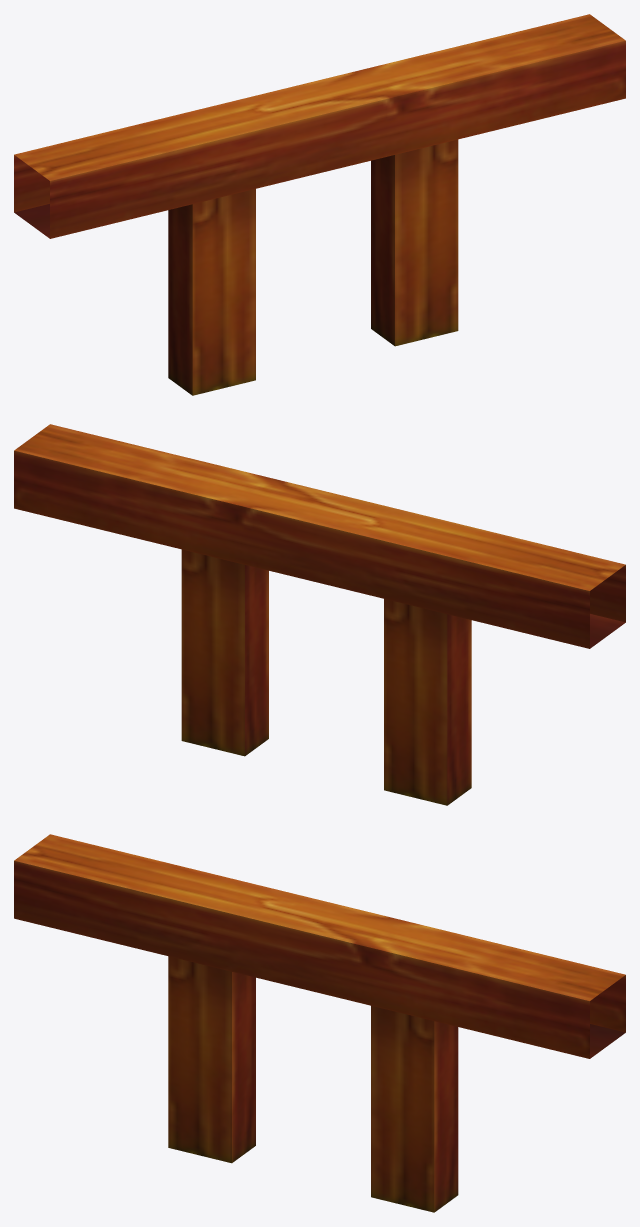
The model's file is Stage_JingJiChang_LanGan02.FBX.
3 views of the same model, one above another, from view 1: azimuth 30°, elevation 25°; view 2: azimuth 150°, elevation 25°; view 3: azimuth 330°, elevation 25° (orthographic).
Visible parts, largest first — view 1: Stage_JingJiChang_LanGan02; view 2: Stage_JingJiChang_LanGan02; view 3: Stage_JingJiChang_LanGan02.
Part boxes in pixels (left/top/right/bottom): Stage_JingJiChang_LanGan02: left=14, top=14, right=625, bottom=395; Stage_JingJiChang_LanGan02: left=14, top=424, right=625, bottom=805; Stage_JingJiChang_LanGan02: left=14, top=834, right=625, bottom=1212.
Bounding box in the file's own units: 189 × 80.22 × 20.59.
